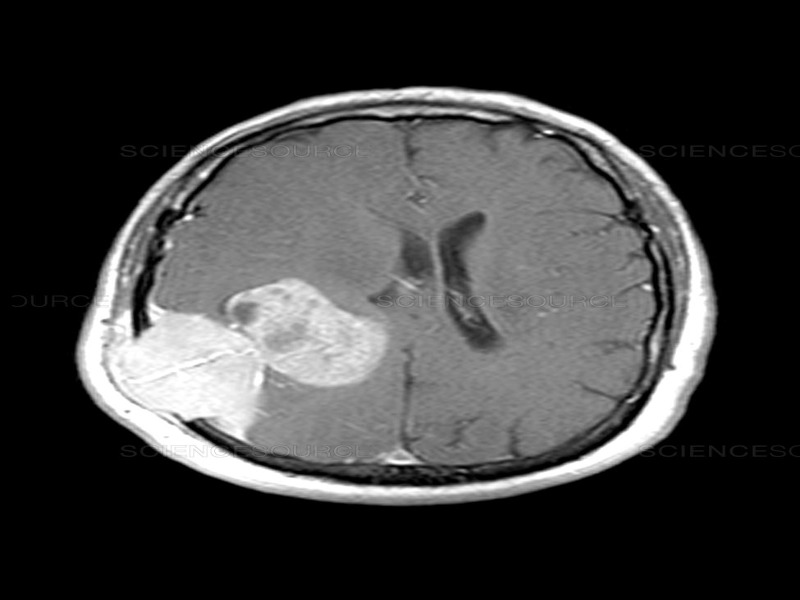tumor: (108, 275, 387, 436)
